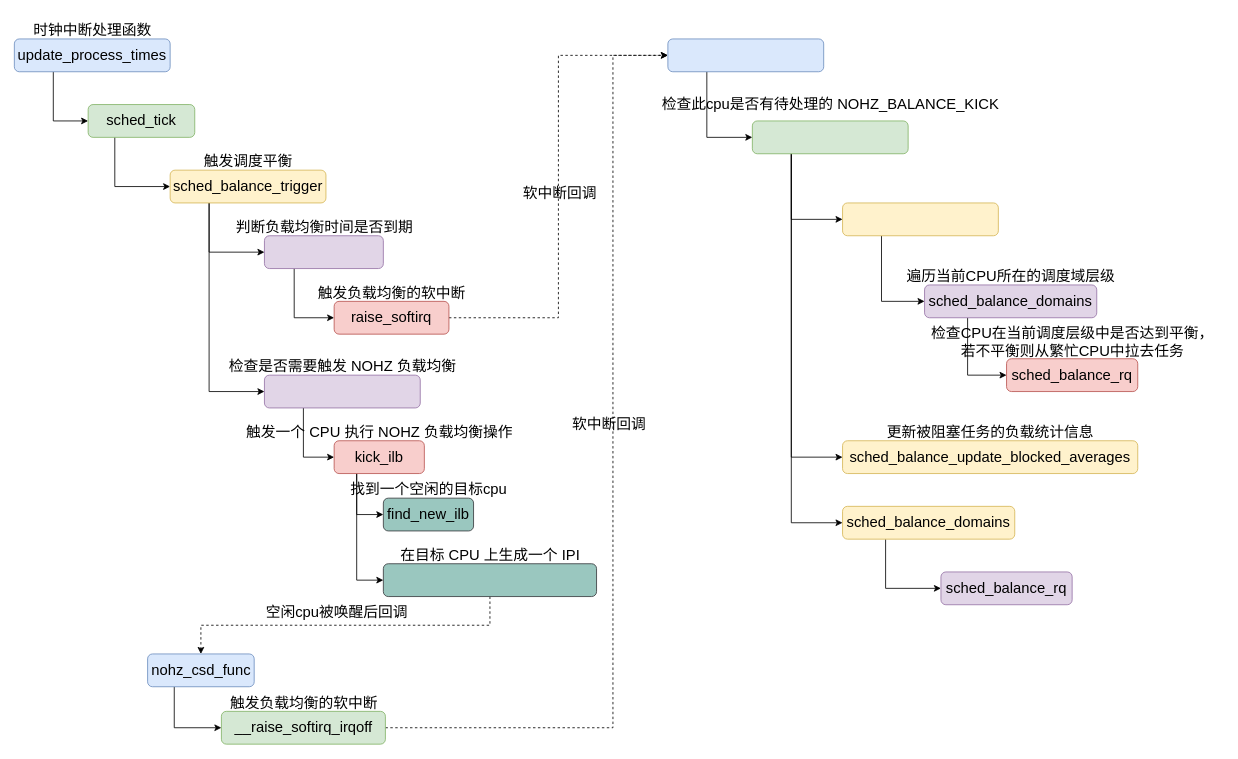
This 1238x759 diagram has some shape labels left out. Each missing label, with the box of its shape:
_nohz_idle_balance: (842, 202, 998, 236)
nohz_balancer_kick: (264, 374, 420, 408)
nohz_idle_balance: (752, 120, 908, 154)
sched_balance_softirq: (667, 38, 824, 72)
smp_call_function_single_async: (383, 563, 597, 597)
time_after_eq: (264, 235, 383, 269)
